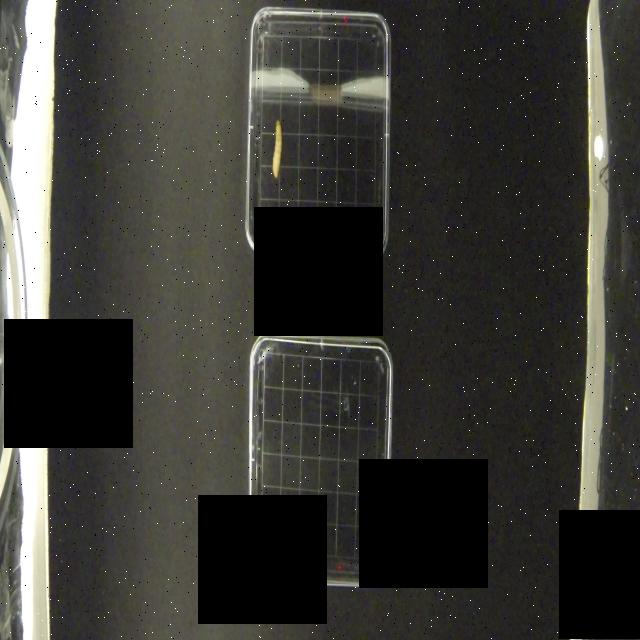larva: (268, 117, 289, 178), (360, 542, 384, 569)
